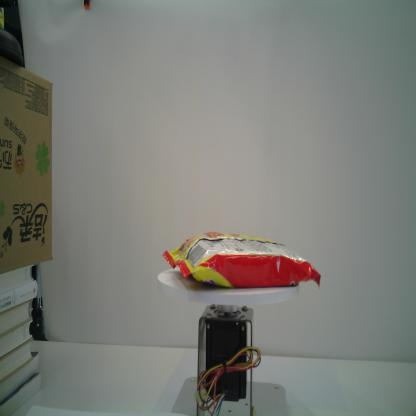Instant Noodles: (162, 231, 322, 290)
